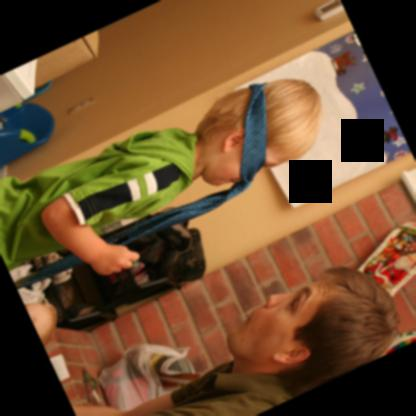handbag: (97, 344, 202, 411)
